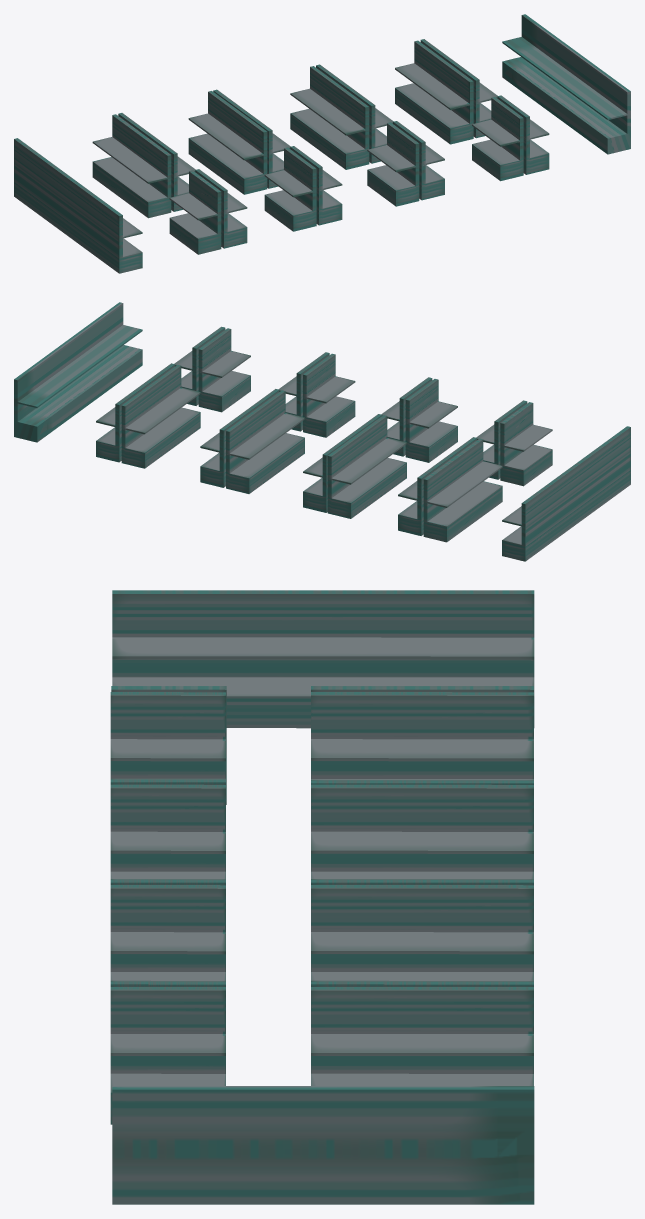
File: Shelfs.fbx
3 renders of one model, top to bottom at view 1: azimuth 30°, elevation 25°; view 2: azimuth 150°, elevation 25°; view 3: azimuth 270°, elevation 25°, orthographic. The views are drawn at different scales.
Parts seen in each view (by area): view 1: Shelf42, Shelf41, Shelf65, Shelf64, Shelf62, Shelf66, Shelf72, Shelf63, Shelf71, Shelf73, Shelf77, Shelf74 (+6 smaller); view 2: Shelf42, Shelf41, Shelf62, Shelf66, Shelf64, Shelf65, Shelf71, Shelf73, Shelf63, Shelf72, Shelf67, Shelf70 (+6 smaller); view 3: Shelf42, Shelf41, Shelf70, Shelf69, Shelf68, Shelf67, Shelf77, Shelf76, Shelf75, Shelf74, Shelf62, Shelf66 (+3 smaller).
Part boxes in pixels (x1=…): Shelf42: x1=502, y1=14, x2=630, y2=154; Shelf41: x1=14, y1=138, x2=142, y2=273; Shelf65: x1=290, y1=66, x2=369, y2=169; Shelf64: x1=188, y1=91, x2=267, y2=194; Shelf62: x1=92, y1=114, x2=171, y2=218; Shelf66: x1=395, y1=40, x2=473, y2=144; Shelf72: x1=367, y1=122, x2=419, y2=206; Shelf63: x1=169, y1=170, x2=221, y2=254; Shelf71: x1=264, y1=147, x2=316, y2=231; Shelf73: x1=472, y1=97, x2=523, y2=181; Shelf77: x1=497, y1=95, x2=549, y2=174; Shelf74: x1=195, y1=169, x2=247, y2=248; Shelf42: x1=14, y1=302, x2=142, y2=442; Shelf41: x1=502, y1=426, x2=630, y2=561; Shelf62: x1=423, y1=438, x2=502, y2=542; Shelf66: x1=121, y1=365, x2=200, y2=468; Shelf64: x1=327, y1=415, x2=406, y2=518; Shelf65: x1=226, y1=390, x2=304, y2=493; Shelf71: x1=405, y1=379, x2=457, y2=462; Shelf73: x1=198, y1=328, x2=250, y2=412; Shelf63: x1=500, y1=402, x2=552, y2=486; Shelf72: x1=303, y1=353, x2=355, y2=437; Shelf67: x1=398, y1=437, x2=476, y2=535; Shelf70: x1=96, y1=363, x2=174, y2=462; Shelf42: x1=112, y1=1086, x2=534, y2=1204; Shelf41: x1=112, y1=590, x2=534, y2=728; Shelf70: x1=311, y1=987, x2=533, y2=1085; Shelf69: x1=311, y1=885, x2=533, y2=980; Shelf68: x1=311, y1=784, x2=533, y2=878; Shelf67: x1=311, y1=692, x2=533, y2=779; Shelf77: x1=110, y1=987, x2=225, y2=1124; Shelf76: x1=110, y1=885, x2=225, y2=980; Shelf75: x1=110, y1=784, x2=225, y2=878; Shelf74: x1=110, y1=692, x2=225, y2=778; Shelf62: x1=311, y1=686, x2=533, y2=692; Shelf66: x1=311, y1=980, x2=533, y2=986.
Size of the model in its own units: 1795 by 193 by 644.
1 material, 1 textured.
